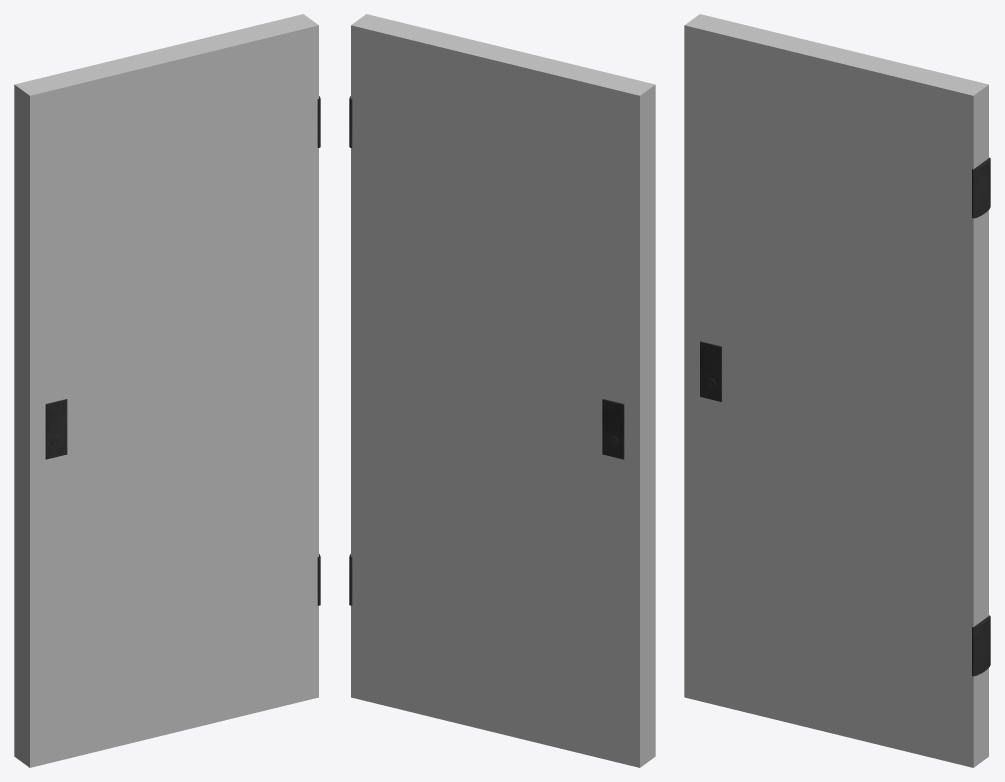
The model's file is DOOR.fbx.
The picture shows the model from 3 angles, left to right: view 1: azimuth 30°, elevation 25°; view 2: azimuth 150°, elevation 25°; view 3: azimuth 330°, elevation 25°; orthographic projection.
Visible parts, largest first — view 1: DOOR; view 2: DOOR; view 3: DOOR.
Part boxes in pixels (x1=…): DOOR: x1=14, y1=14, x2=320, y2=767; DOOR: x1=349, y1=14, x2=655, y2=767; DOOR: x1=684, y1=14, x2=990, y2=767.
Bounding box in the file's own units: 0.9032 × 0.0921 × 1.98.
